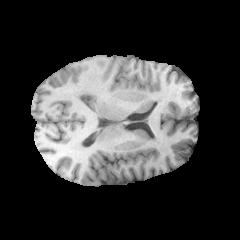glioma: (73, 71, 107, 98)
